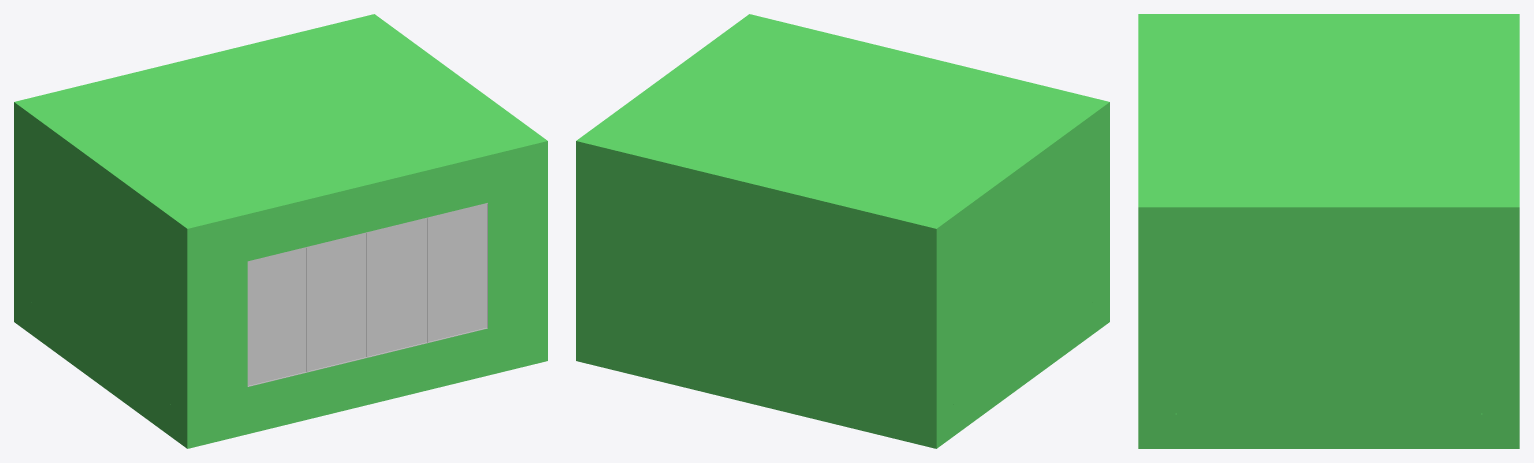
Rendered from Rest.Rebuild.fbx.
3 views of the same model, side by side, from view 1: azimuth 30°, elevation 25°; view 2: azimuth 150°, elevation 25°; view 3: azimuth 270°, elevation 25° (orthographic). The views are drawn at different scales.
Parts seen in each view (by area): view 1: 立方体, 立方体.001, 立方体.007; view 2: 立方体; view 3: 立方体.
Part boxes in pixels (x1,y1,x2,y2): 立方体: [14, 14, 547, 448]; 立方体.001: [248, 203, 486, 385]; 立方体.007: [247, 203, 487, 386]; 立方体: [576, 14, 1109, 448]; 立方体: [1138, 14, 1519, 448].
Size of the model in its own units: 600 by 350 by 500.
